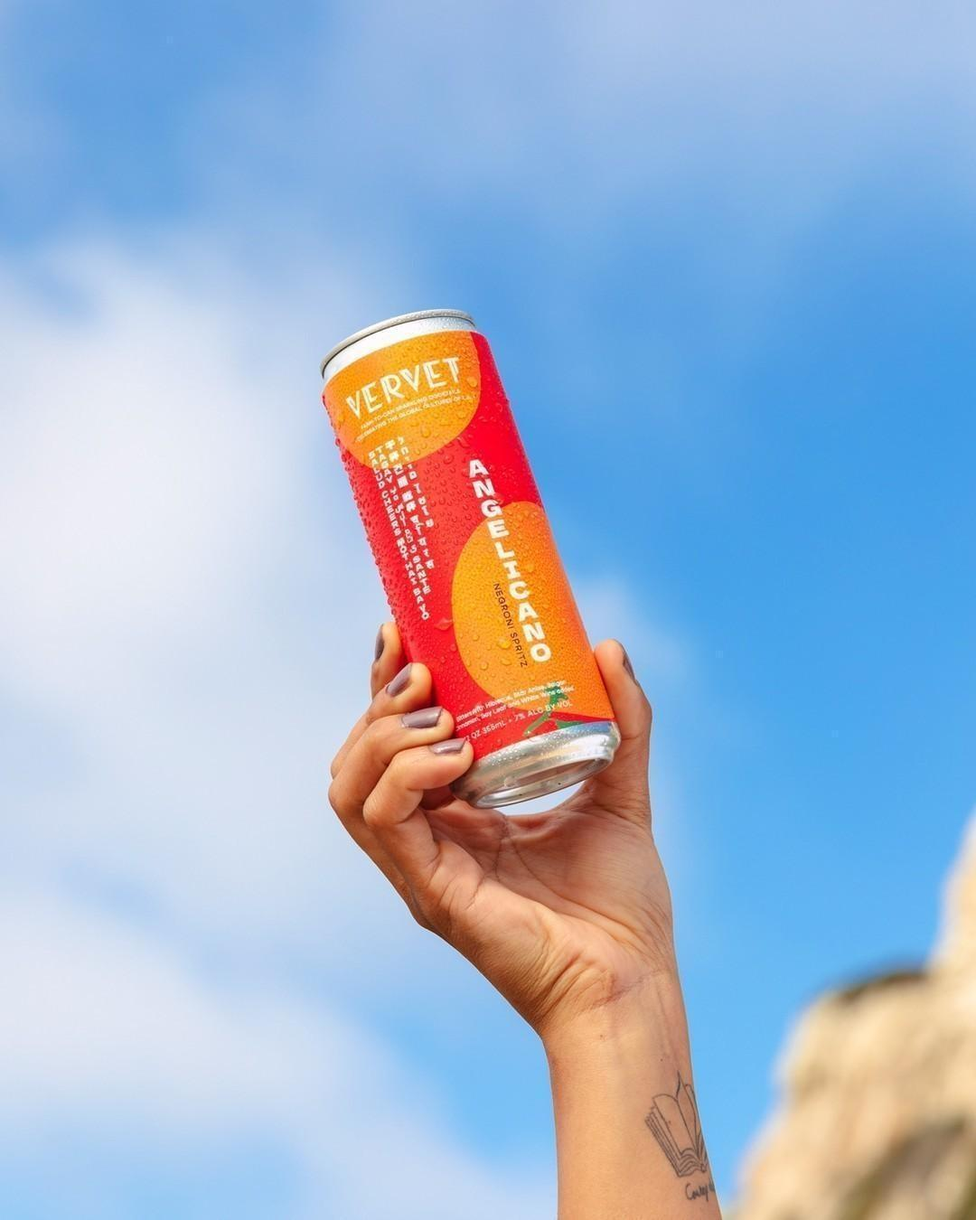tin can: (296, 302, 624, 829)
